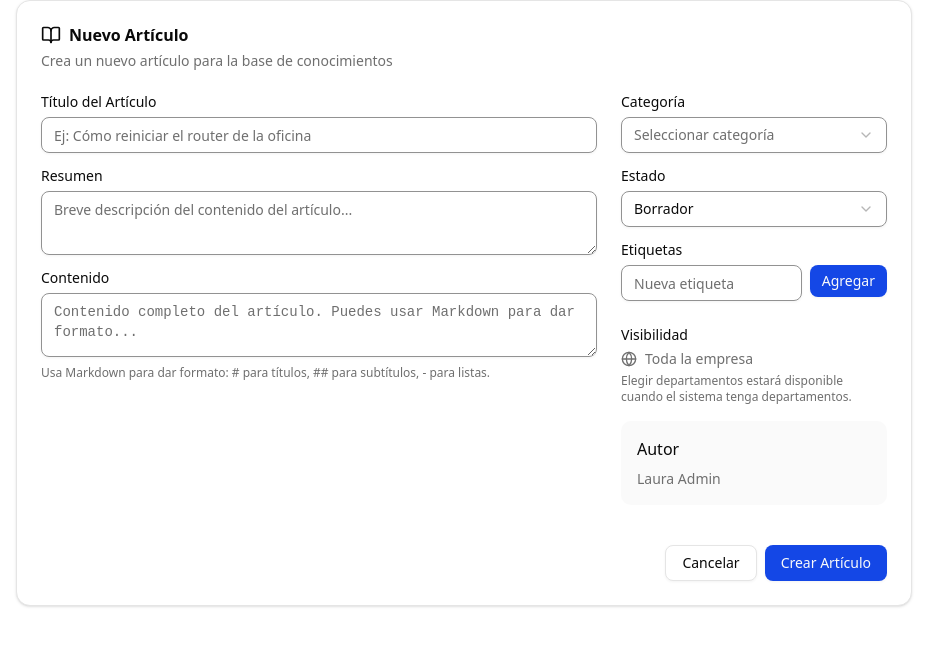
Test: ArticleForm › shows the errors next to each field before sending
Click the button "Crear Artículo": (826, 563) [765,545,887,581]
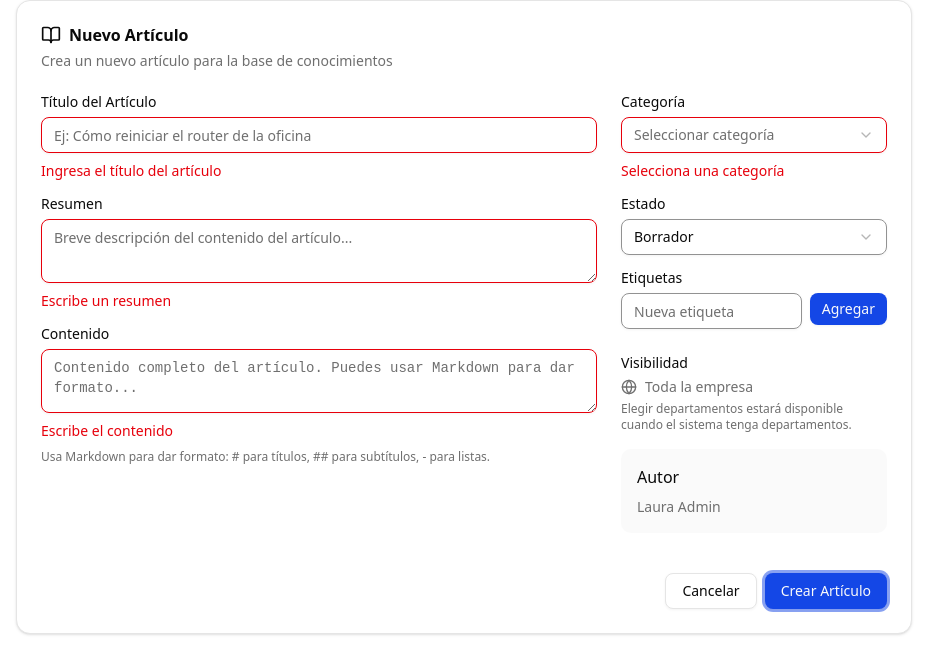
Check: the text "Ingresa el título del artículo" is shown, box [41,161,221,180]
Check: the text "Escribe un resumen" is shown, box [41,291,171,310]
Check: the text "Escribe el contenido" is shown, box [41,421,173,440]
